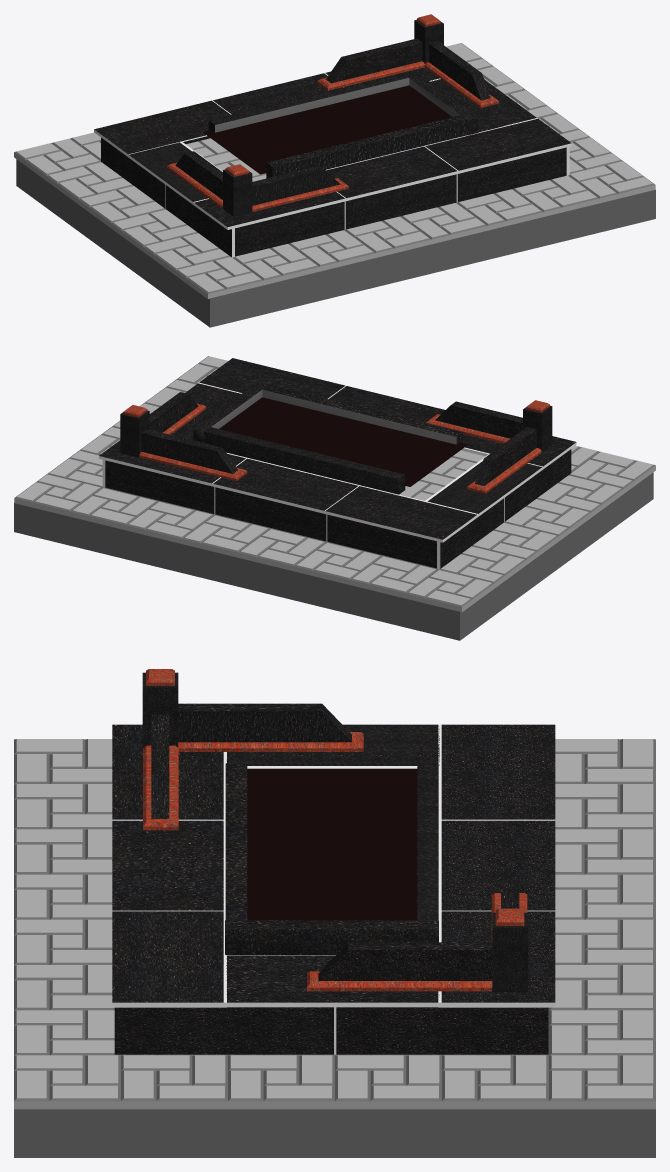
File: 120-180-15 черн с угл крас [u_1_u].glb
3 renders of one model, top to bottom at view 1: azimuth 30°, elevation 25°; view 2: azimuth 150°, elevation 25°; view 3: azimuth 270°, elevation 25°, orthographic. The views are drawn at different scales.
Visible parts, largest first — view 1: plitka.006, Cube.197, Cube.194, Cube.190, Plane.014, Cube.193, Куб.246, Cube.192, Куб.244, Cube.201, Cube.205, Cube.196 (+10 smaller); view 2: plitka.006, Cube.197, Cube.193, Cube.189, Plane.014, Cube.194, Куб.244, Cube.192, Куб.246, Cube.196, Cube.201, Cube.205 (+9 smaller); view 3: plitka.006, Cube.197, Cube.194, Cube.193, Plane.014, Cube.191, Cube.195, Cube.207, Cube.203, Куб.245, Cube.196, Куб.246 (+7 smaller).
Part boxes in pixels (<box>): plitka.006: <box>14,43,655,298</box>; Cube.197: <box>16,159,655,327</box>; Cube.194: <box>193,118,571,229</box>; Cube.190: <box>235,147,566,256</box>; Plane.014: <box>203,85,452,174</box>; Cube.193: <box>94,67,440,157</box>; Куб.246: <box>266,115,467,178</box>; Cube.192: <box>101,137,234,257</box>; Куб.244: <box>208,72,409,132</box>; Cube.201: <box>326,38,422,83</box>; Cube.205: <box>252,165,340,205</box>; Cube.196: <box>128,142,222,204</box>; plitka.006: <box>14,356,655,612</box>; Cube.197: <box>14,472,653,640</box>; Cube.193: <box>99,440,477,542</box>; Cube.189: <box>105,460,439,568</box>; Plane.014: <box>219,397,467,486</box>; Cube.194: <box>198,358,576,469</box>; Куб.244: <box>203,427,405,494</box>; Cube.192: <box>440,449,571,568</box>; Куб.246: <box>262,384,462,444</box>; Cube.196: <box>425,454,542,516</box>; Cube.201: <box>141,429,237,473</box>; Cube.205: <box>435,401,522,438</box>; plitka.006: <box>14,739,655,1109</box>; Cube.197: <box>14,1109,655,1157</box>; Cube.194: <box>112,724,226,1007</box>; Cube.193: <box>438,724,555,1007</box>; Plane.014: <box>247,769,417,920</box>; Cube.191: <box>114,1007,548,1054</box>; Cube.195: <box>226,955,439,1007</box>; Cube.207: <box>178,703,351,742</box>; Cube.203: <box>318,942,492,980</box>; Куб.245: <box>225,920,438,954</box>; Cube.196: <box>227,724,439,768</box>; Куб.246: <box>225,763,247,920</box>.
Bounding box in the file's own units: 2.4 × 0.5625 × 1.8.
Materials: 8 (3 with a texture image).
